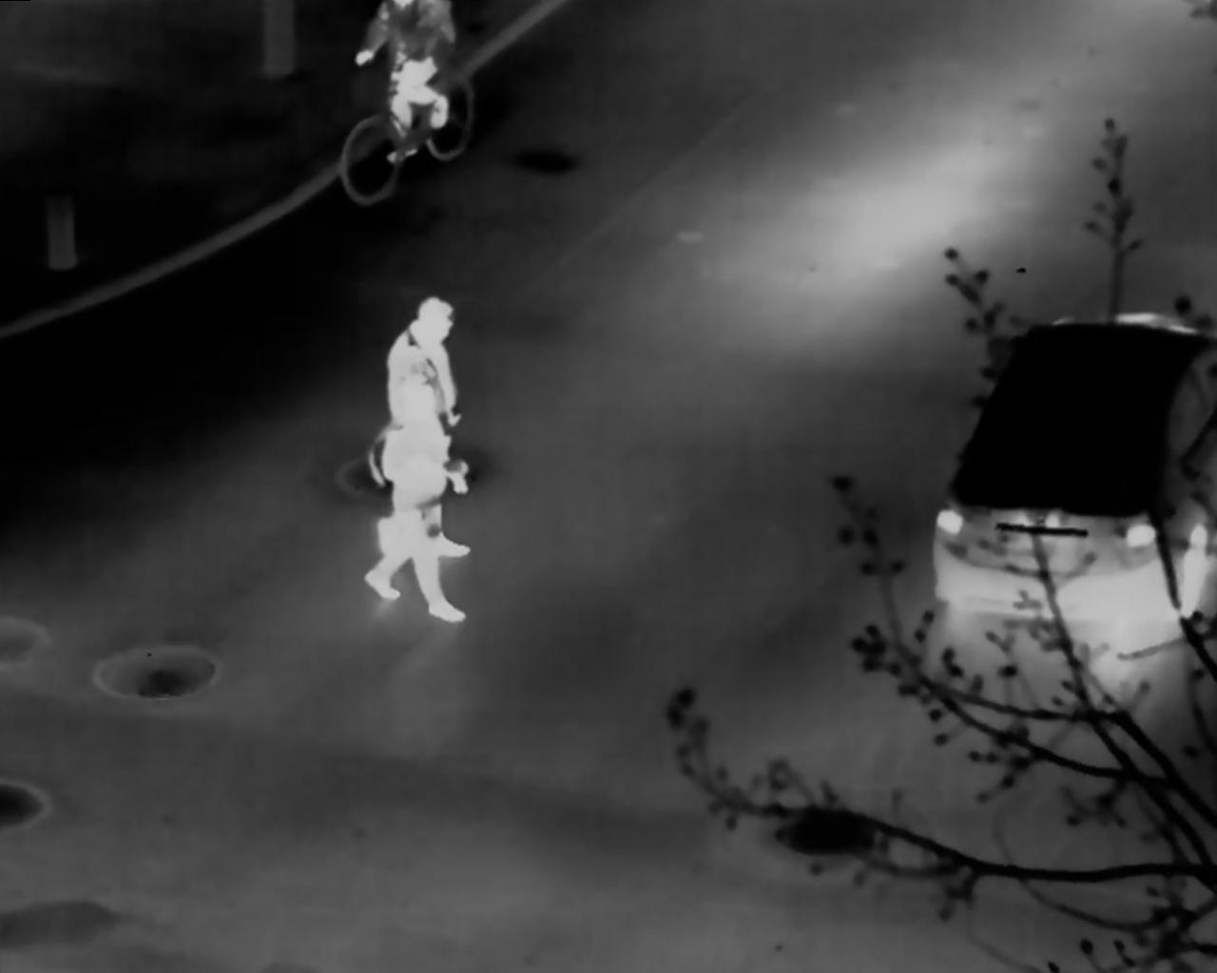person: (360, 374, 465, 625), (350, 2, 453, 166), (380, 295, 467, 431)
